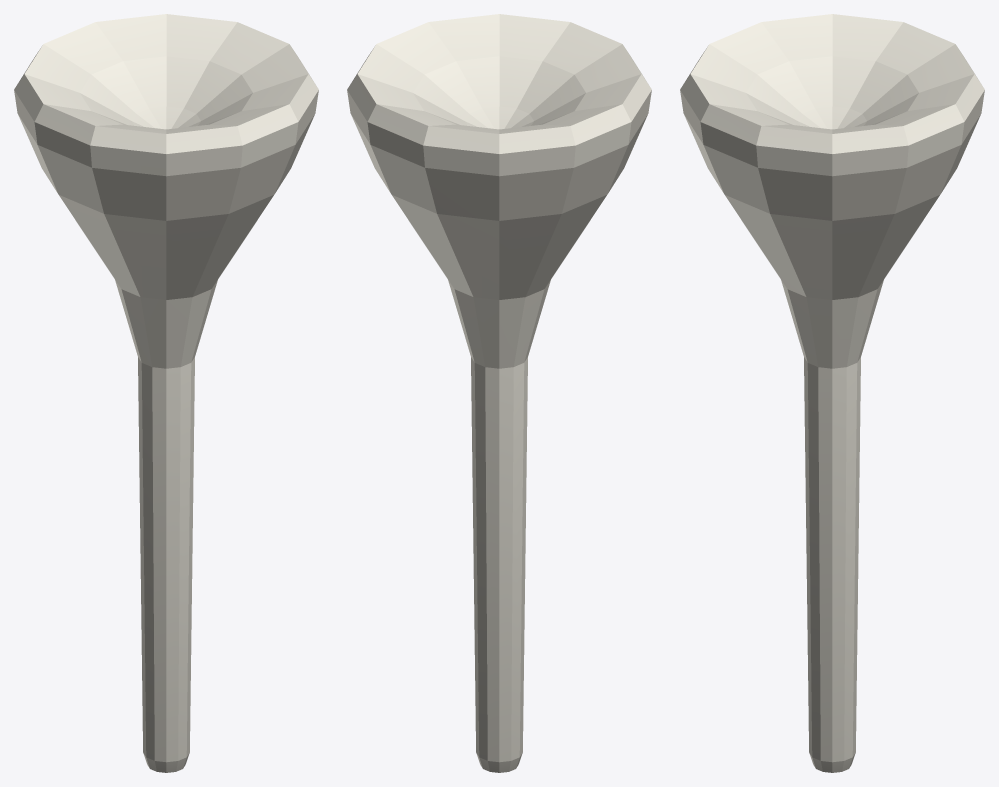
Rendered from tee_marker_tee_white.glb.
3 views of the same model, side by side, from view 1: azimuth 30°, elevation 25°; view 2: azimuth 150°, elevation 25°; view 3: azimuth 270°, elevation 25° (orthographic).
Visible parts, largest first — view 1: Body; view 2: Body; view 3: Body.
Boxes of the visible parts, x1,y1,x2,y2 form: Body: (14, 14, 318, 772); Body: (347, 14, 651, 772); Body: (680, 14, 984, 772).
Bounding box in the file's own units: 0.176 × 0.44 × 0.176.
Materials: 1 (1 with a texture image).
